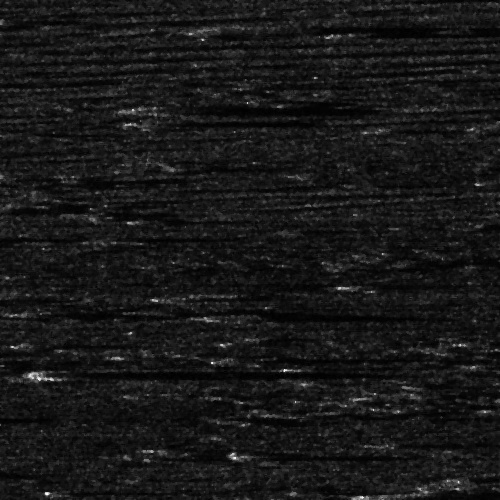object: (0, 368, 113, 379), (182, 352, 255, 367), (204, 450, 277, 459), (128, 293, 211, 300), (193, 312, 276, 319), (334, 495, 439, 500), (333, 279, 374, 288), (333, 280, 374, 289), (386, 488, 397, 495)
shadow: (55, 368, 408, 379), (219, 352, 430, 367), (235, 312, 448, 319), (354, 279, 464, 288), (354, 280, 464, 289), (241, 450, 346, 459), (0, 293, 89, 302), (392, 488, 500, 495), (170, 293, 274, 300), (0, 412, 60, 423), (115, 235, 218, 236)
